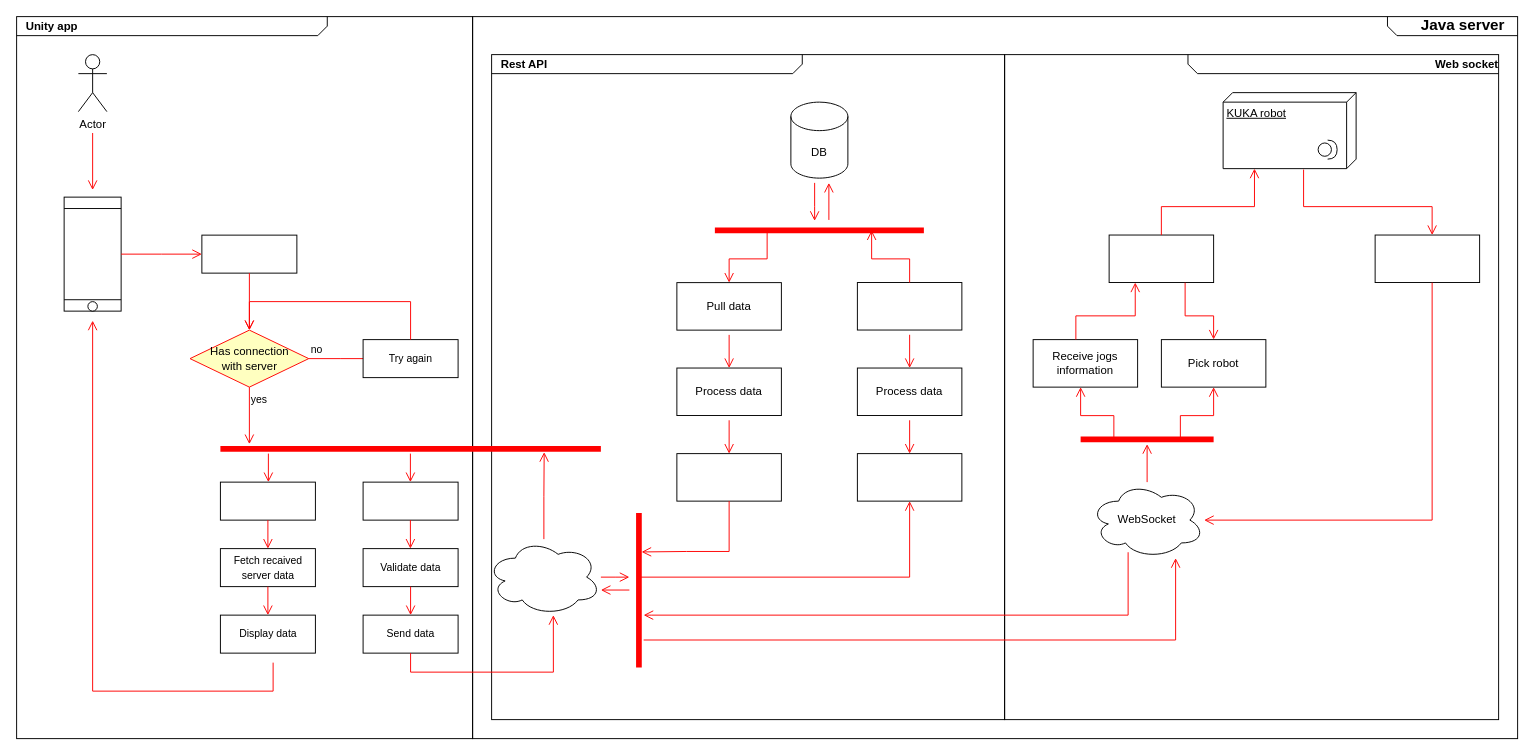
Image size: 1534x755. Some labels were removed from this diagram. The shapes that lost their labels are listed below. From the top down, each one's centre as x and y in pixels, then its label:
point 249,253: App interaction
point 1161,258: Establish connection
point 1427,258: Disconnect
point 909,306: Push data
point 728,477: Send
point 909,477: Recaive
point 267,500: GET
point 410,500: POST
point 543,576: Server
